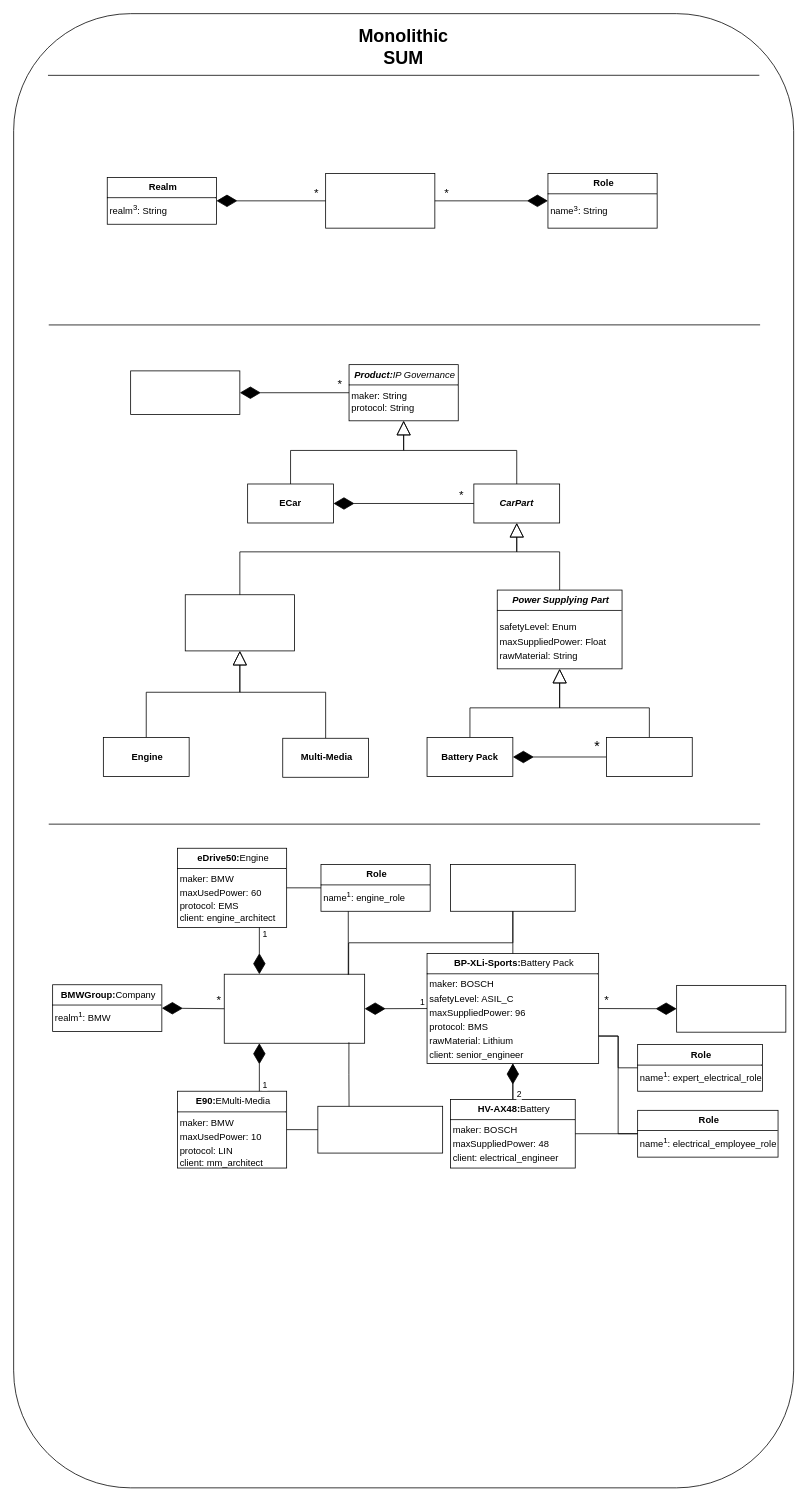
This 807x1502 diagram has some shape labels left out. Each missing label, with the centre of its shape:
"Battery" goes at point 649,756.
"BMW4er : ECar maker: BMW protocol: EMS client: senior_engineer" goes at point 294,1008.
"Bosch: Company r ealm 1 : Bosch" goes at point 731,1008.
"IP Governance client 3 : String" goes at point 380,200.
"Power Using Part maxUsedPower: Float" goes at point 239,622.
"Realm: Company" goes at point 185,392.
"Role name 1 : energySupplier_role" goes at point 512,887.
"Role name 1 : mm_architect_role" goes at point 380,1129.
